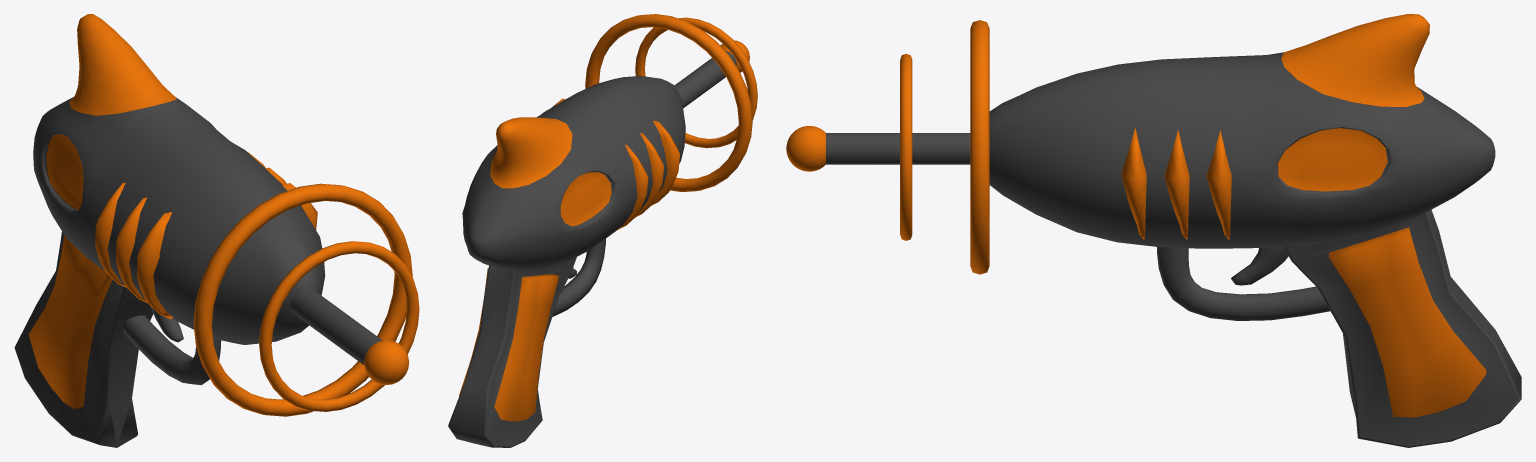
The model's file is Gun space.fbx.
3 renders of one model, left to right at view 1: azimuth 30°, elevation 25°; view 2: azimuth 150°, elevation 25°; view 3: azimuth 270°, elevation 25°, orthographic. The views are drawn at different scales.
Parts seen in each view (by area): view 1: s_gun1; view 2: s_gun1; view 3: s_gun1.
Part boxes in pixels (x1=…): s_gun1: x1=14, y1=14, x2=419, y2=447; s_gun1: x1=448, y1=14, x2=757, y2=447; s_gun1: x1=786, y1=14, x2=1521, y2=447.
Size of the model in its own units: 0.1899 by 0.3478 by 0.5479.
